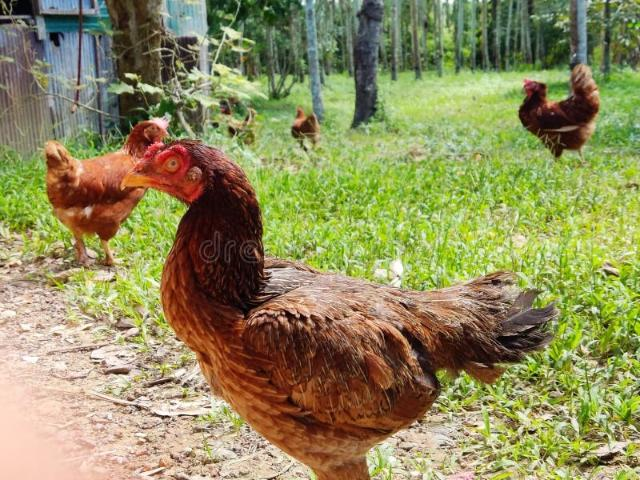Chicken: (121, 137, 554, 480), (41, 118, 170, 265), (518, 63, 602, 161), (290, 109, 321, 147)
